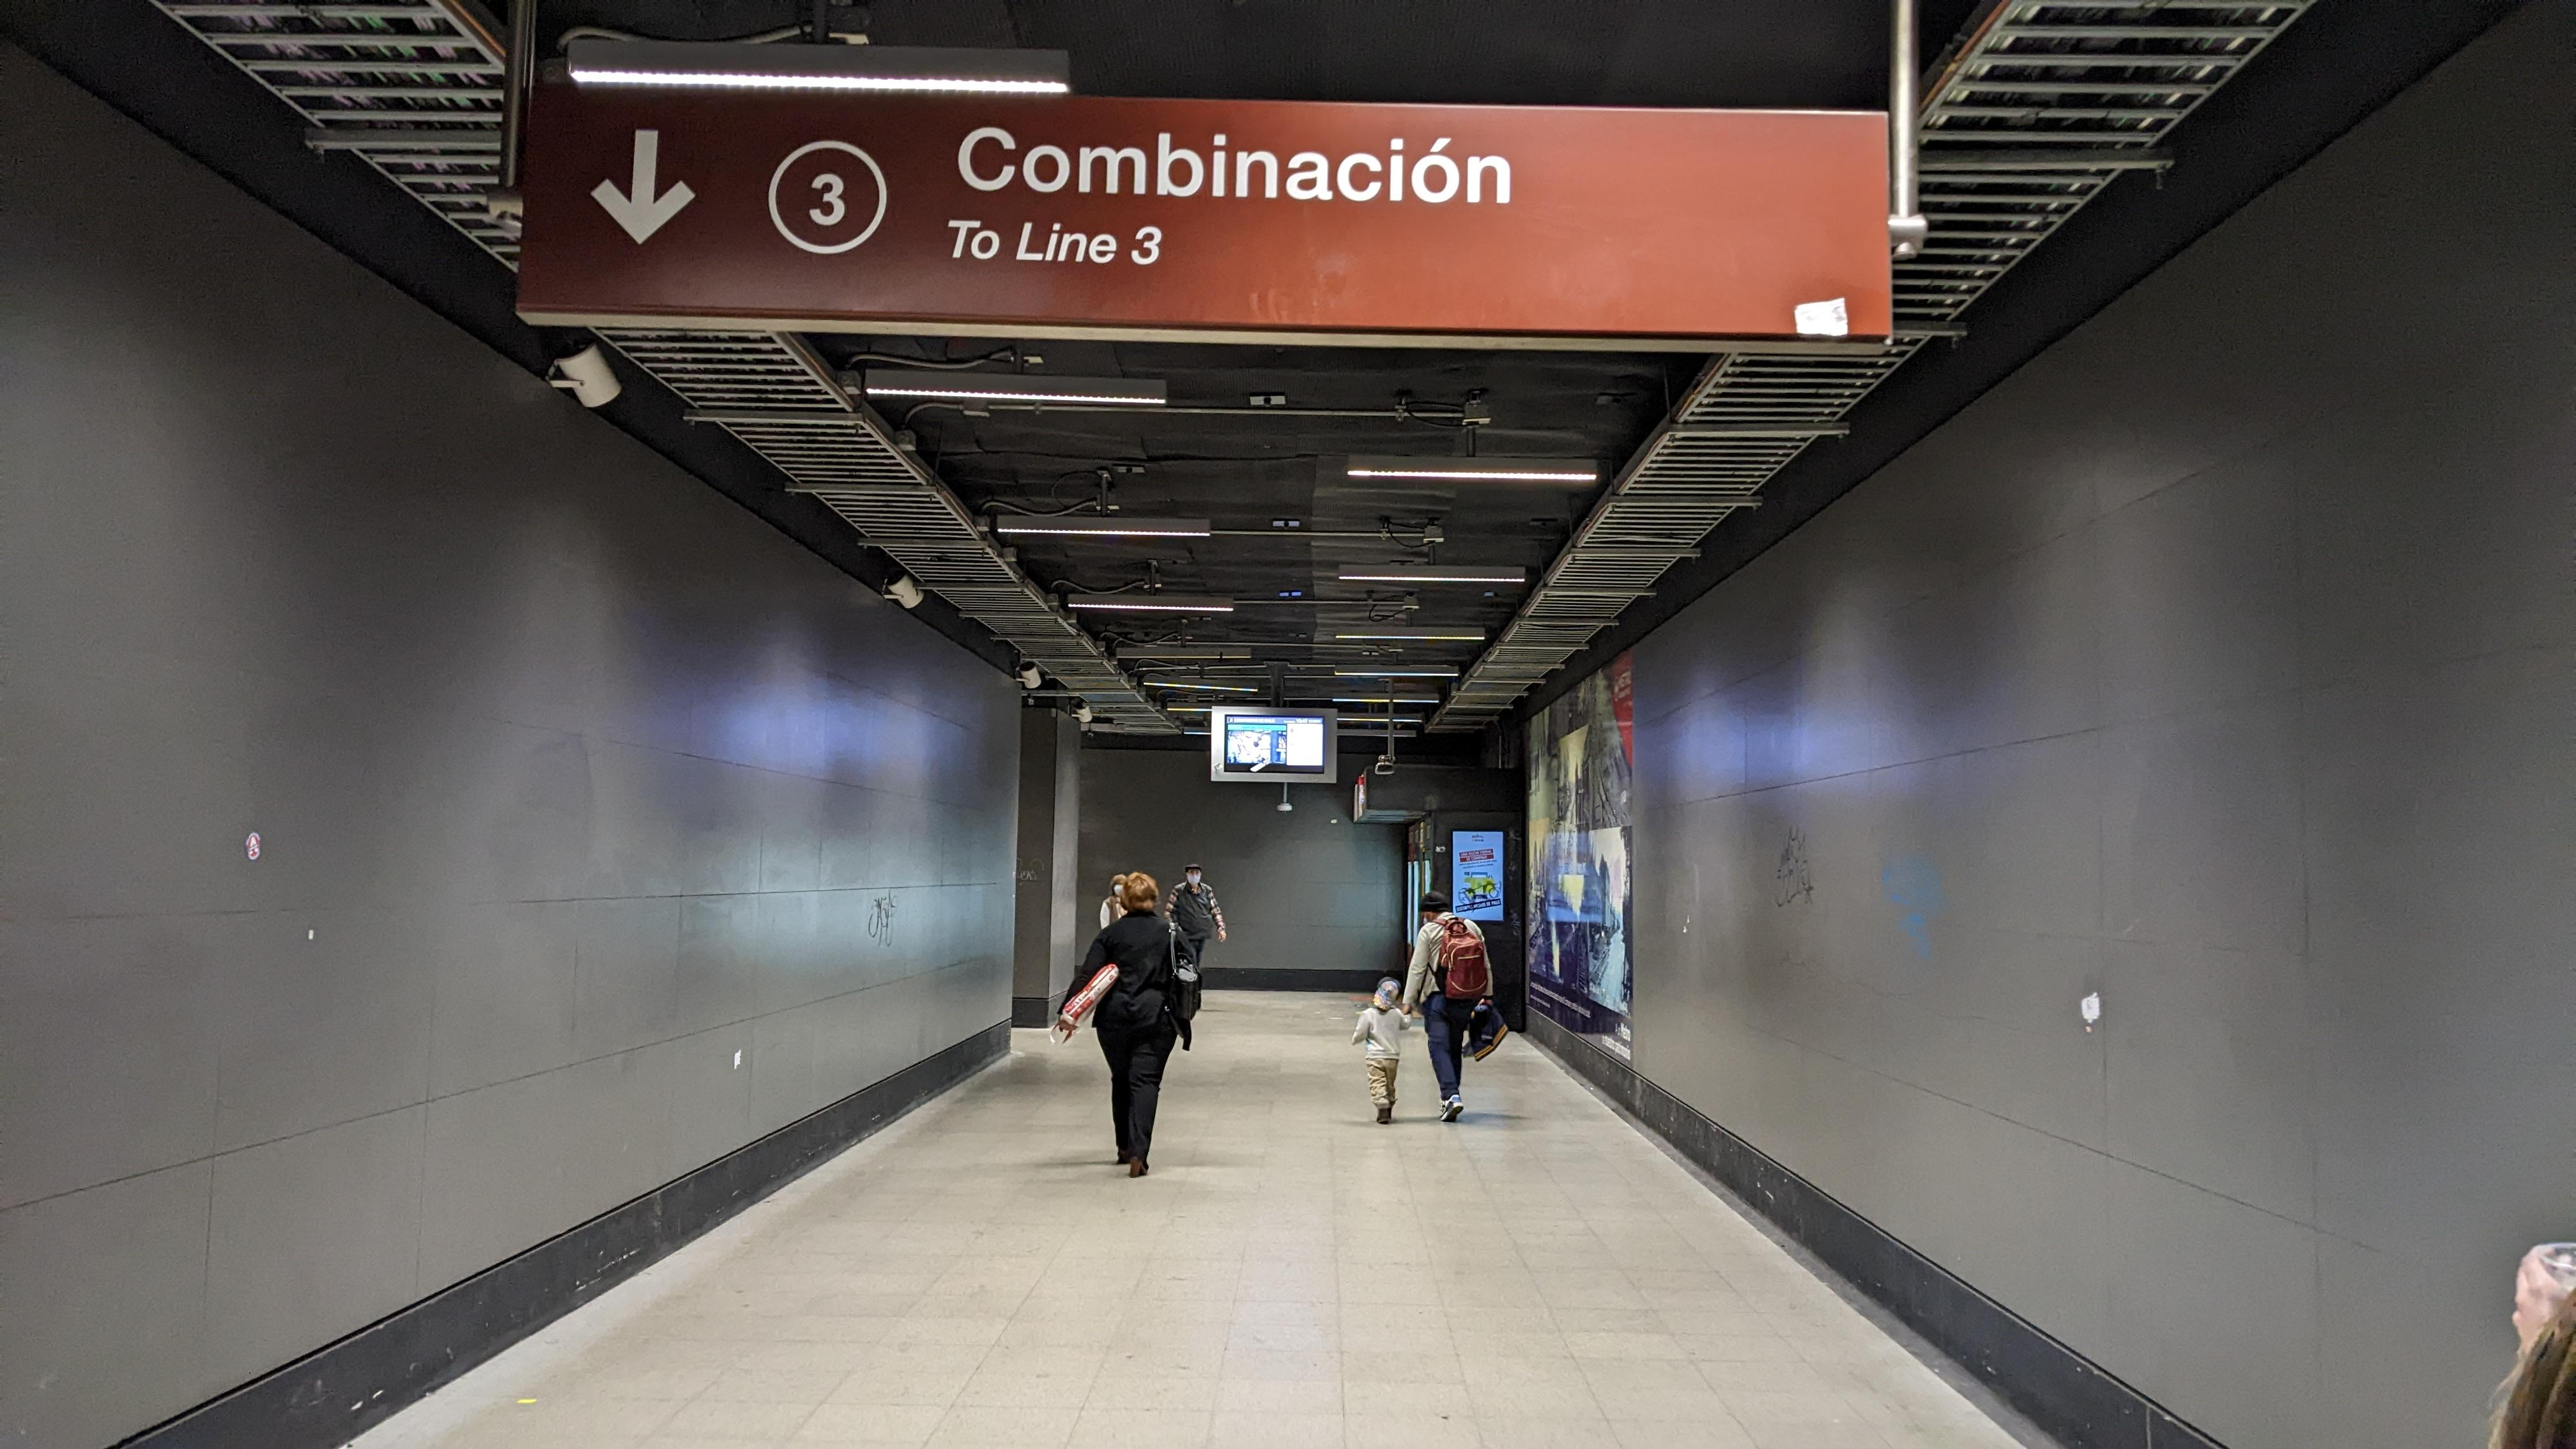down arrow: (584, 122, 701, 255)
